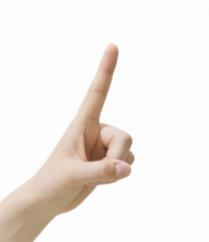up: (36, 42, 143, 206)
